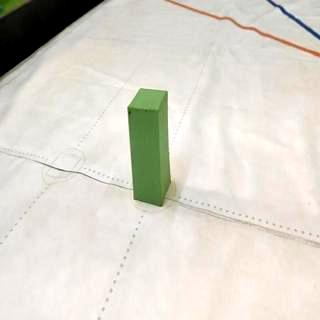greenbox: (126, 86, 172, 207)
